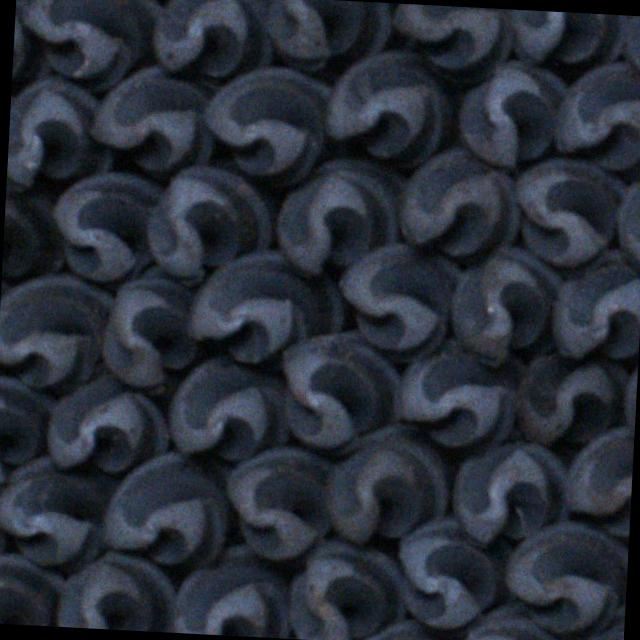tool_b: (188, 246, 350, 368), (202, 63, 334, 188), (276, 324, 404, 452), (274, 154, 407, 277), (333, 240, 462, 364), (144, 162, 272, 286), (501, 515, 630, 638), (325, 425, 454, 547), (324, 47, 456, 166), (100, 448, 230, 568), (450, 240, 566, 368), (88, 62, 218, 174), (98, 264, 212, 390), (398, 146, 524, 260), (0, 270, 115, 391), (396, 338, 518, 452), (168, 355, 292, 465), (222, 446, 336, 564), (20, 0, 166, 92), (453, 438, 573, 548), (0, 454, 112, 571), (511, 154, 625, 268), (47, 372, 172, 474), (456, 56, 569, 168), (394, 514, 501, 632), (7, 75, 118, 188), (48, 170, 158, 284), (285, 536, 405, 640), (512, 347, 626, 452), (170, 544, 294, 639), (552, 247, 640, 366), (553, 58, 640, 178), (390, 3, 512, 88), (151, 0, 280, 80), (58, 551, 178, 633), (265, 0, 391, 69), (564, 422, 635, 540), (504, 9, 626, 72), (1, 180, 67, 296), (0, 375, 55, 489), (0, 554, 64, 627)
